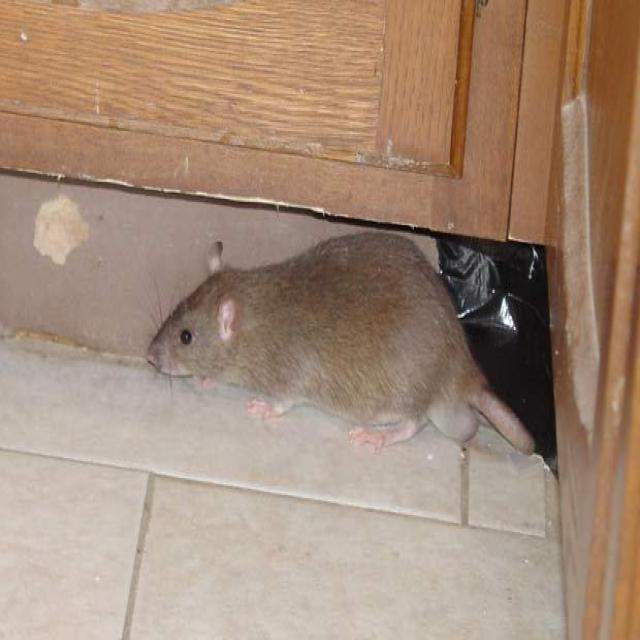rat: (139, 228, 548, 477)
